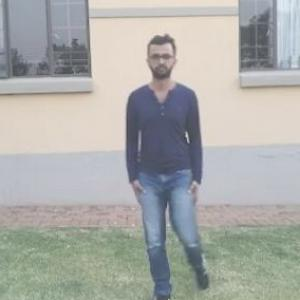follow: (122, 36, 199, 298)
